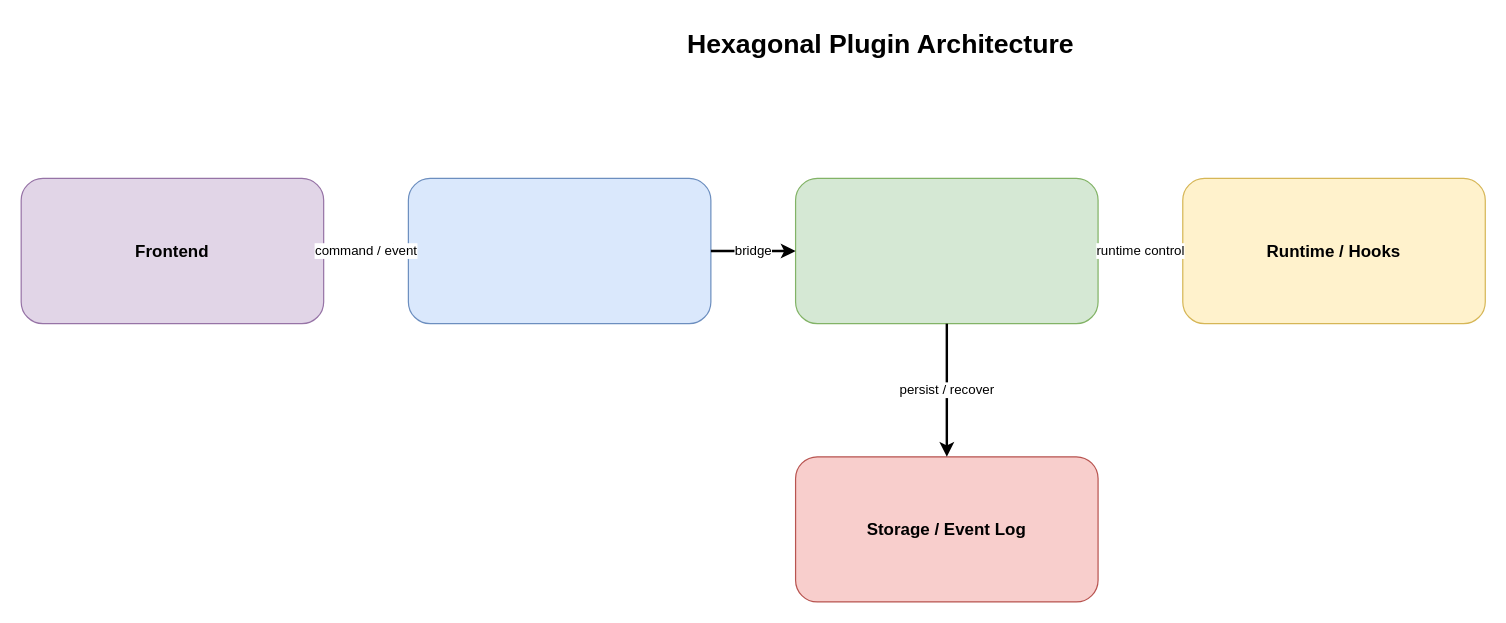
Some shapes in this 1506 by 623 pixel diagram are drawn without their labels. The shapes that lost their labels are listed below. From the top down, each one's centre as x and y in pixels, then its label:
the point at 559,250: Desktop Host
the point at 946,250: Backend / Daemon
